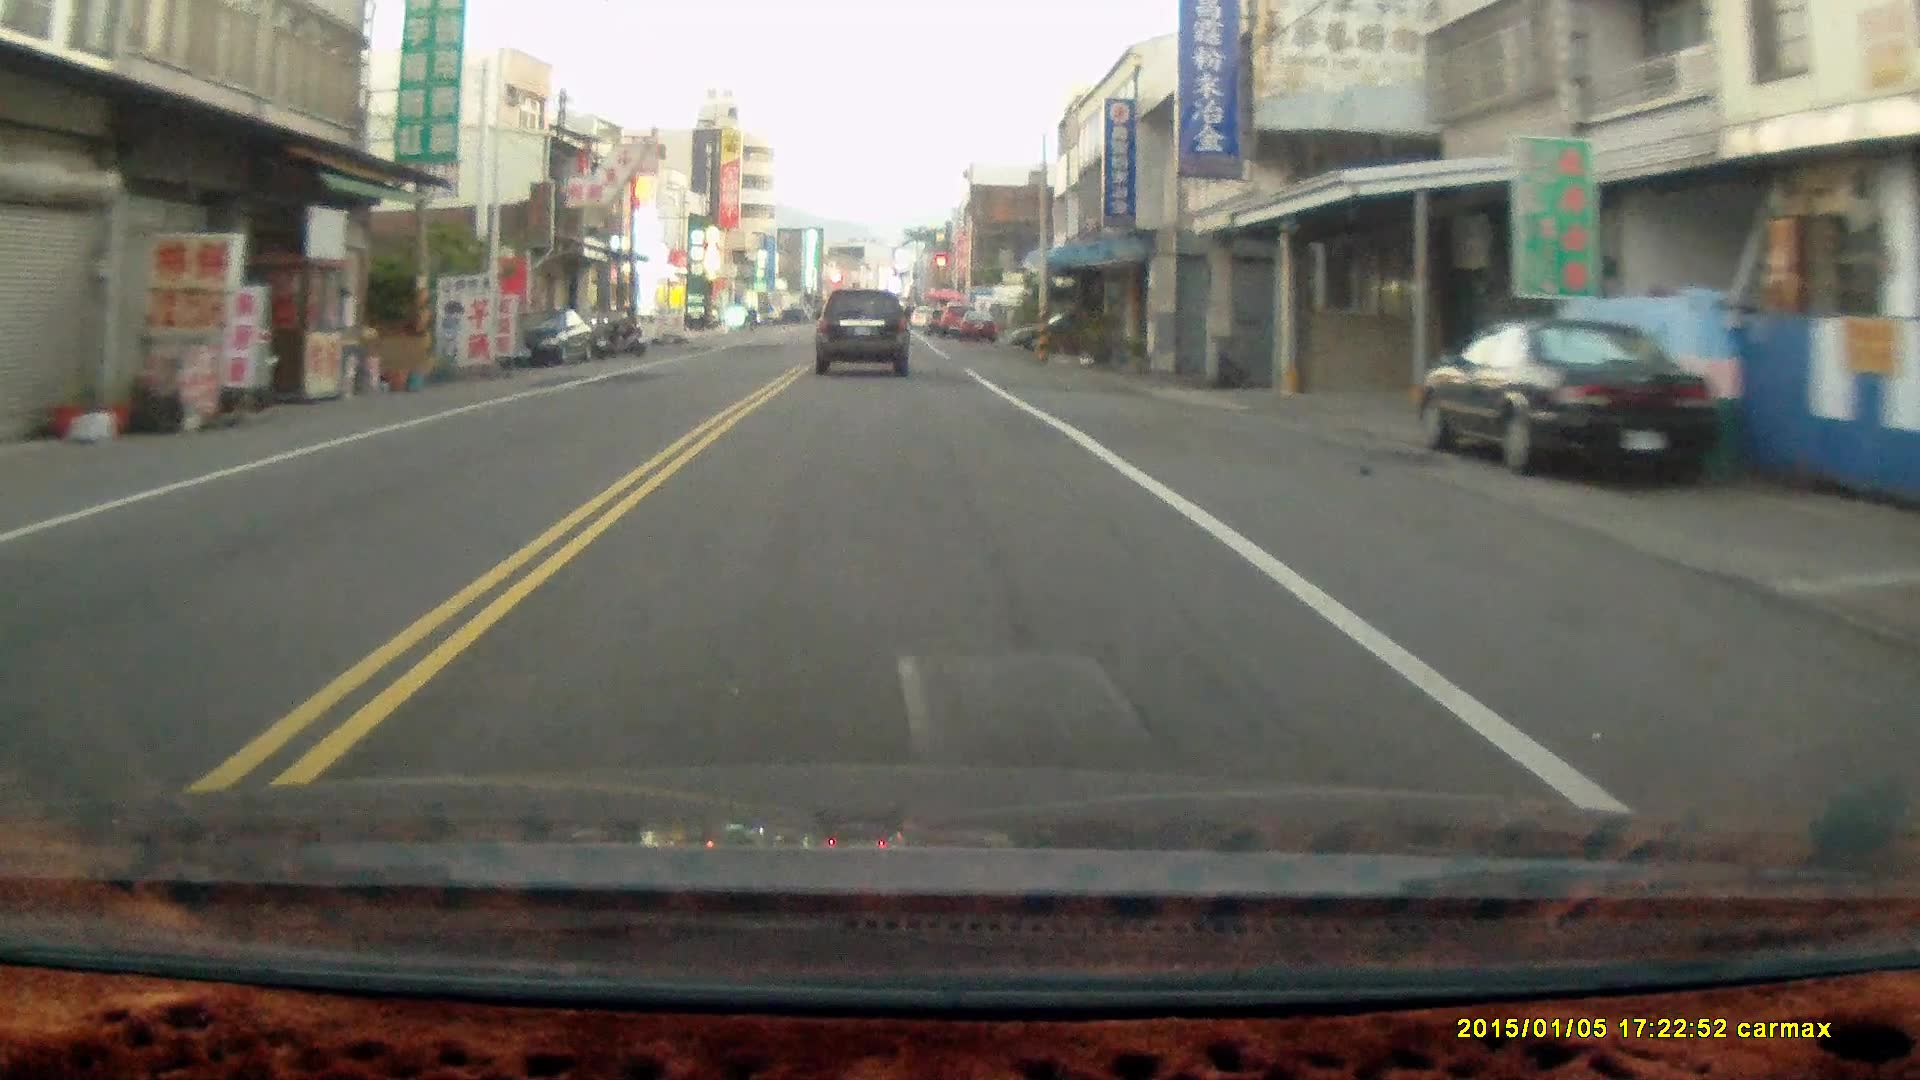vehicle: (1415, 316, 1724, 489), (814, 287, 911, 380)
